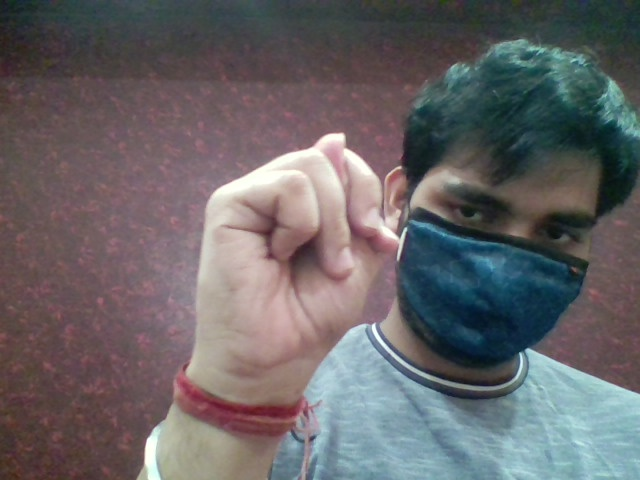n: (182, 125, 389, 358)
